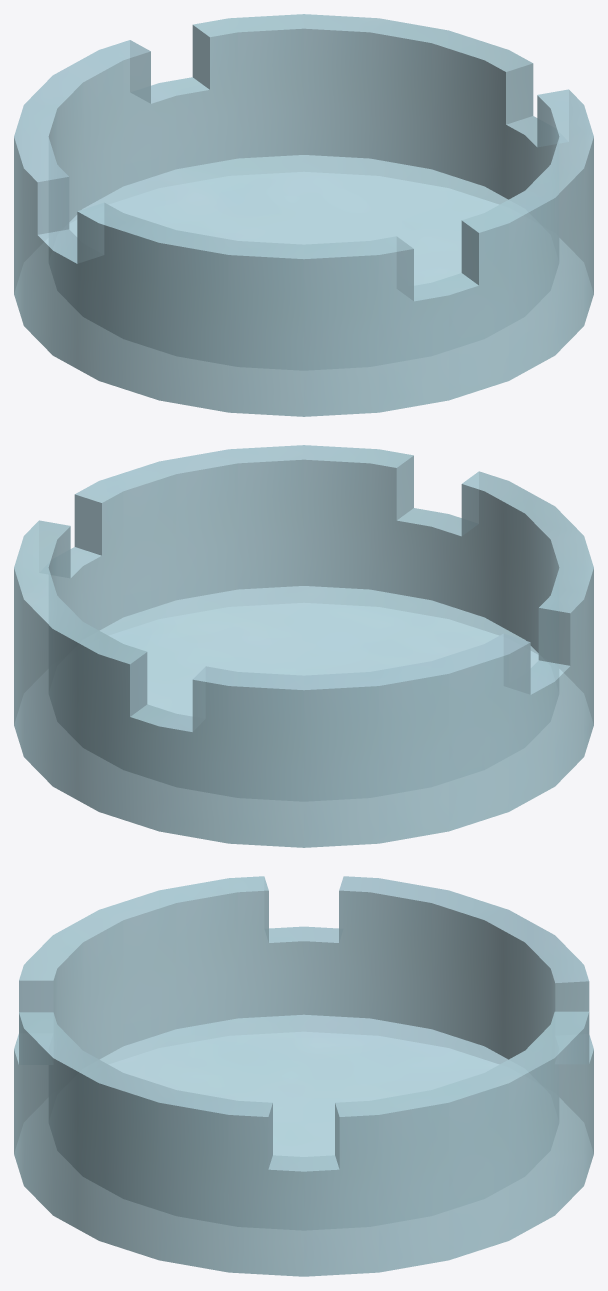
Rendered from ashtray.fbx.
3 views of the same model, one above another, from view 1: azimuth 30°, elevation 25°; view 2: azimuth 150°, elevation 25°; view 3: azimuth 270°, elevation 25° (orthographic).
Parts seen in each view (by area): view 1: Model; view 2: Model; view 3: Model.
Part boxes in pixels (x1,y1,x2,y2): Model: [14, 14, 593, 416]; Model: [14, 445, 593, 847]; Model: [14, 876, 593, 1276].
Size of the model in its own units: 0.1 by 0.03 by 0.1.
